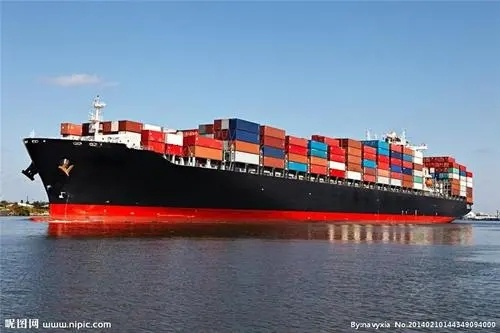Cargoship: (12, 96, 477, 224)
